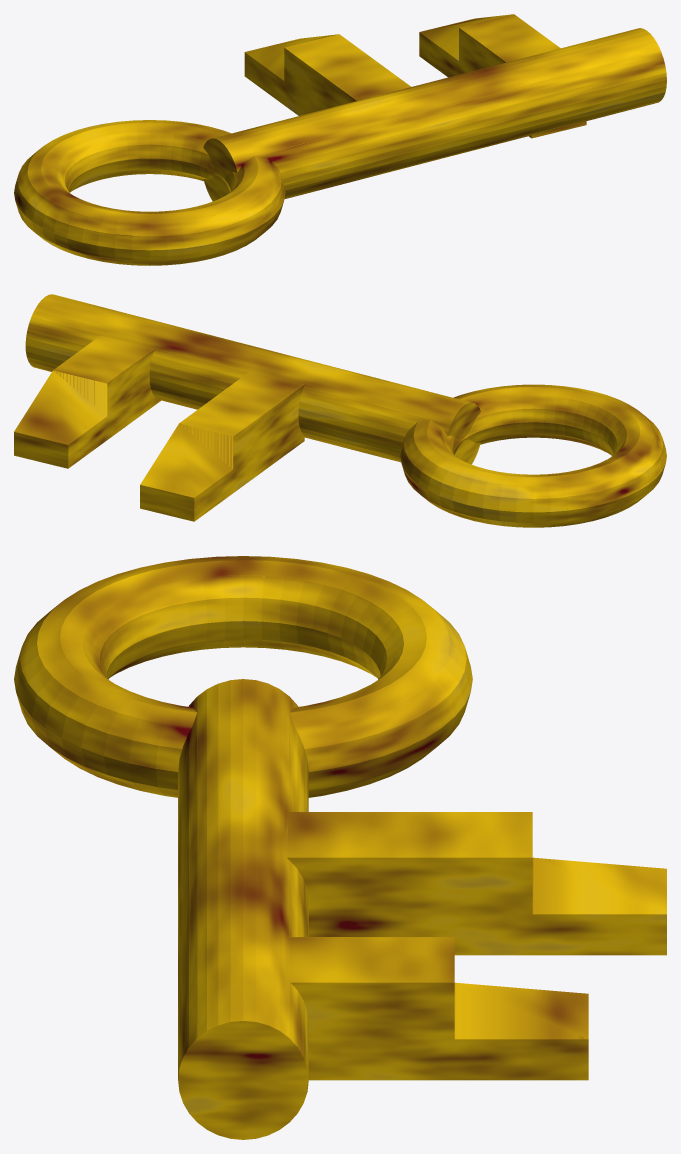
The picture shows the model from 3 angles, top to bottom: view 1: azimuth 30°, elevation 25°; view 2: azimuth 150°, elevation 25°; view 3: azimuth 270°, elevation 25°; orthographic projection. The views are drawn at different scales.
Visible parts, largest first — view 1: 立方体.001; view 2: 立方体.001; view 3: 立方体.001.
Part boxes in pixels (bbox=[...]): 立方体.001: bbox=[14, 14, 666, 265]; 立方体.001: bbox=[14, 294, 666, 527]; 立方体.001: bbox=[14, 556, 666, 1139].
Bounding box in the file's own units: 2.39 × 0.2823 × 1.3.
Materials: 1 (1 with a texture image).
